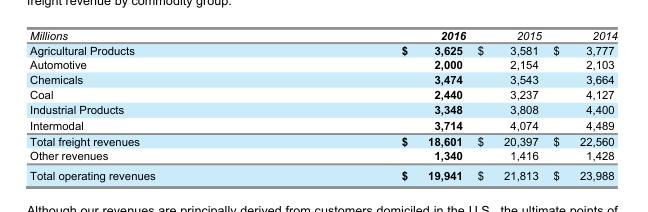table: (29, 29, 616, 181)
table column: (29, 29, 277, 181), (277, 29, 470, 181), (470, 29, 546, 181), (546, 29, 616, 181)
table column header: (29, 29, 616, 42)
table row: (29, 147, 616, 164), (29, 164, 616, 181), (29, 101, 616, 117), (29, 56, 616, 71), (29, 71, 616, 86), (29, 86, 616, 101), (29, 117, 616, 132), (29, 132, 616, 147), (29, 42, 616, 56), (29, 29, 616, 42)
